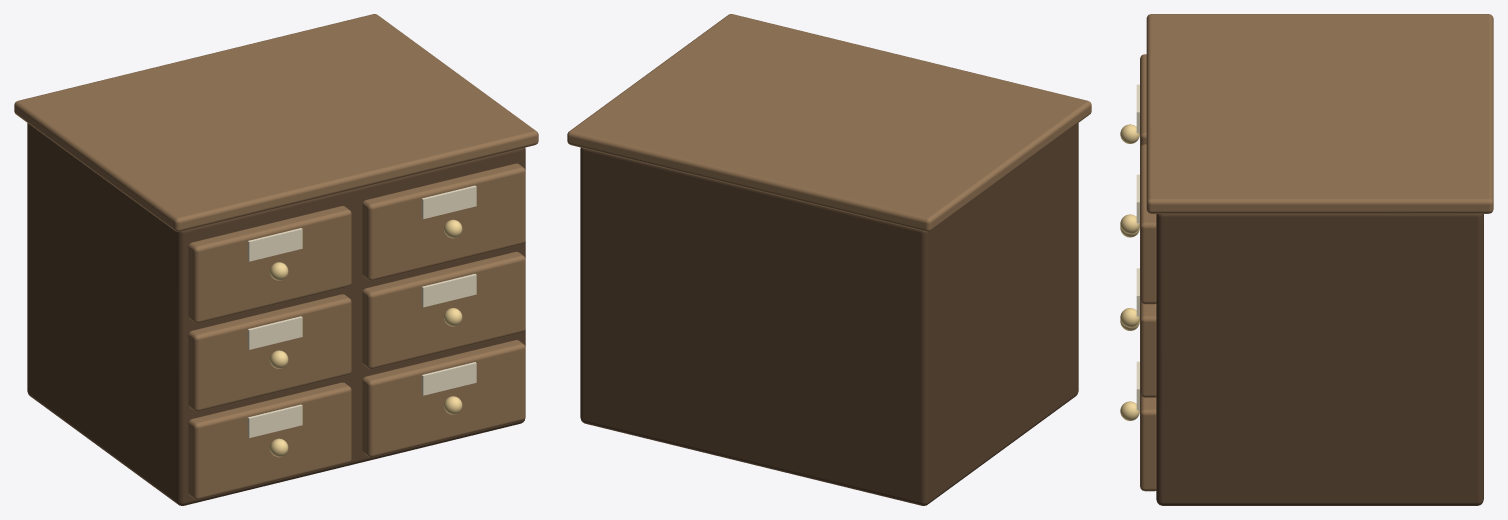
File: drawer_chest.gltf
The picture shows the model from 3 angles, left to right: view 1: azimuth 30°, elevation 25°; view 2: azimuth 150°, elevation 25°; view 3: azimuth 270°, elevation 25°; orthographic projection. The views are drawn at different scales.
Visible parts, largest first — view 1: Top.001, Carcass.001, Drawer00, Drawer01, Drawer11, Drawer10, Drawer21, Drawer20, Label20, Label00, Label01, Label10 (+2 smaller); view 2: Carcass.001, Top.001; view 3: Carcass.001, Top.001, Drawer21, Drawer01, Drawer11, Drawer20.
Part boxes in pixels (box(x1,y1,x2,y2)): Top.001: box(14, 14, 538, 231); Carcass.001: box(27, 123, 525, 505); Drawer00: box(188, 382, 351, 499); Drawer01: box(362, 340, 525, 457); Drawer11: box(362, 251, 525, 369); Drawer10: box(188, 294, 351, 411); Drawer21: box(362, 163, 525, 280); Drawer20: box(188, 206, 351, 323); Label20: box(247, 228, 302, 261); Label00: box(247, 404, 302, 437); Label01: box(421, 362, 476, 395); Label10: box(247, 316, 302, 349); Carcass.001: box(580, 123, 1078, 505); Top.001: box(567, 14, 1091, 231); Carcass.001: box(1156, 214, 1483, 505); Top.001: box(1146, 14, 1493, 213); Drawer21: box(1140, 144, 1156, 304); Drawer01: box(1140, 394, 1156, 491); Drawer11: box(1140, 300, 1156, 397); Drawer20: box(1140, 54, 1146, 147).
Size of the model in its own units: 0.272 by 0.21 by 0.228.
